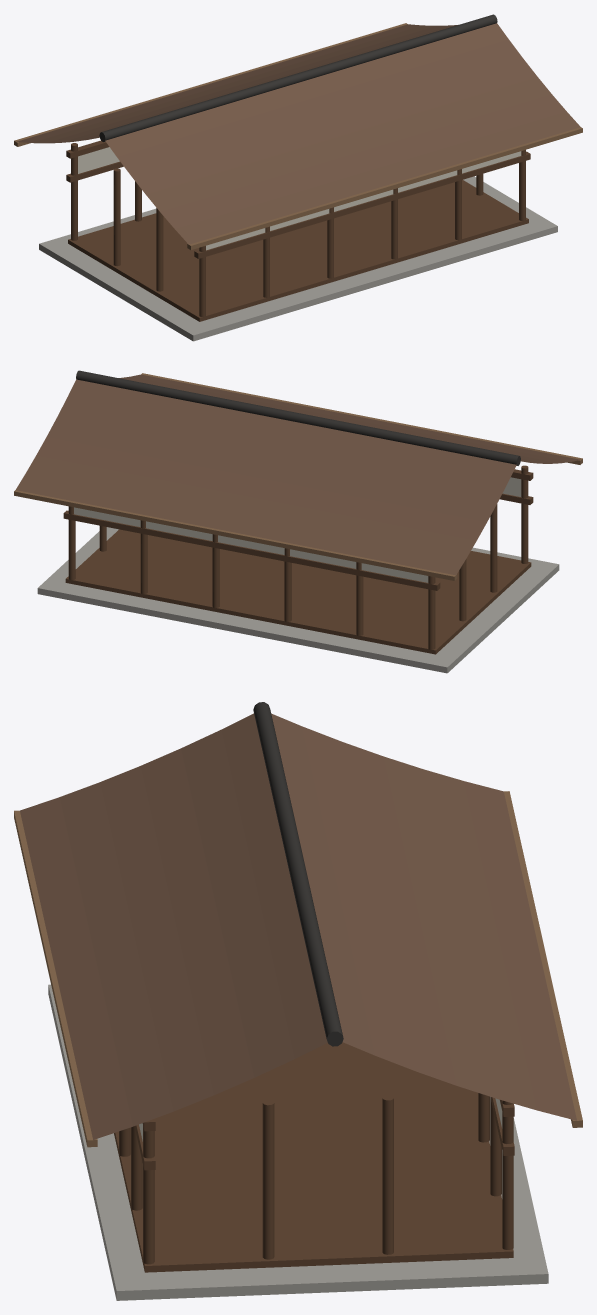
The model's file is kasuga-heiden.glb.
3 views of the same model, one above another, from view 1: azimuth 30°, elevation 25°; view 2: azimuth 150°, elevation 25°; view 3: azimuth 270°, elevation 25° (orthographic). The views are drawn at different scales.
Bounding box in the file's own units: 18.38 × 6.68 × 12.66.
